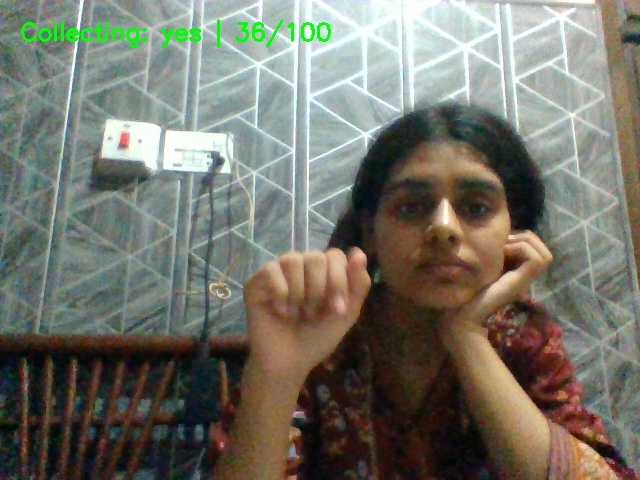yes: (231, 240, 395, 388)
